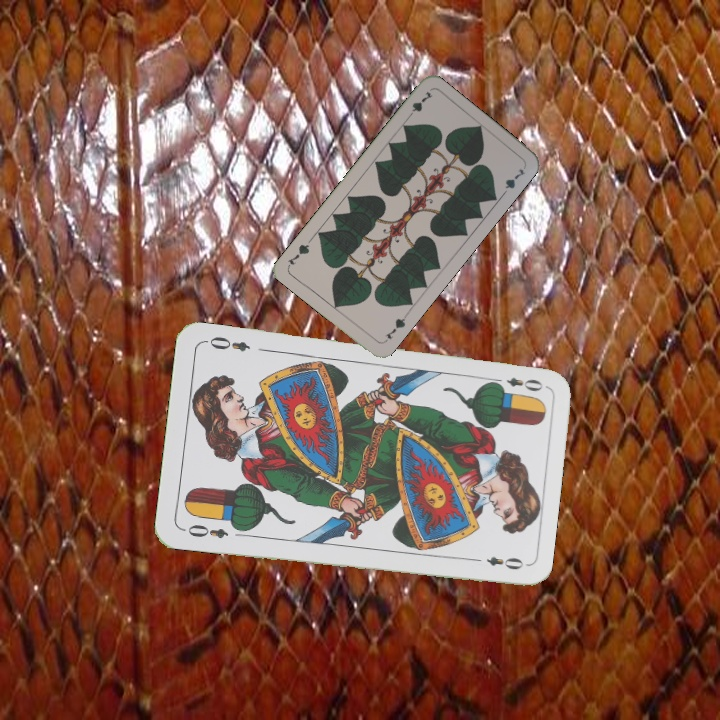EO: (488, 373, 546, 394), (179, 520, 231, 542)
G7: (403, 87, 435, 122), (380, 311, 409, 345)
